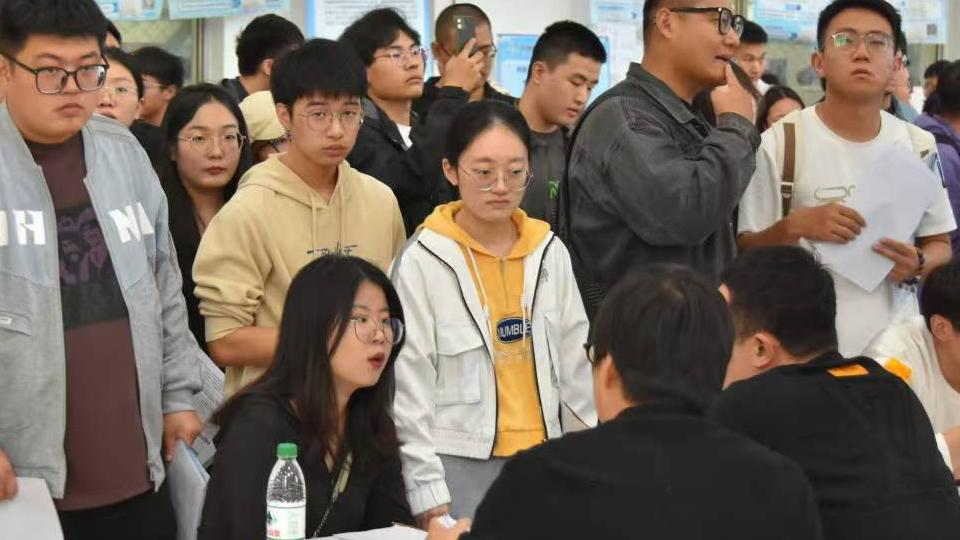persion: (0, 39, 103, 142), (814, 14, 898, 104), (445, 130, 531, 217), (656, 0, 739, 87), (337, 286, 403, 386), (276, 98, 365, 172), (178, 107, 245, 184), (532, 48, 597, 126), (376, 37, 427, 104), (449, 30, 500, 93), (92, 59, 135, 128), (925, 302, 960, 381), (138, 66, 177, 118), (733, 37, 774, 86)
